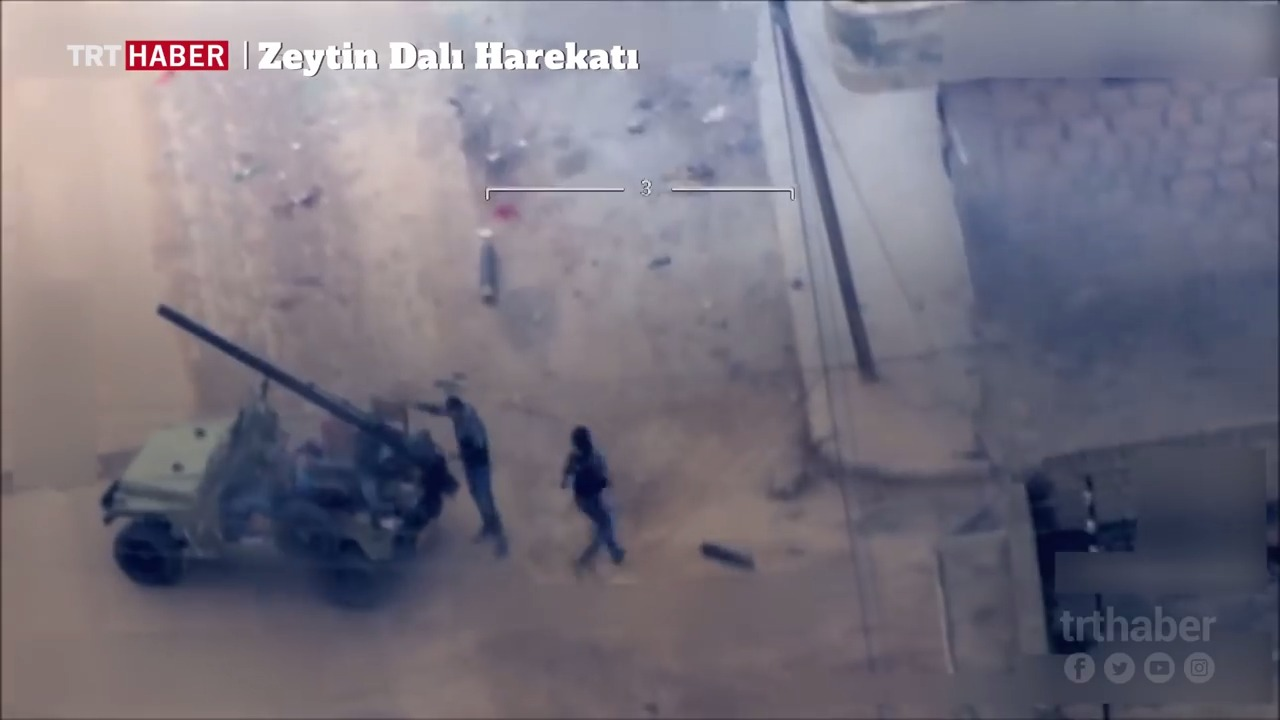arac: (89, 282, 456, 600)
insan: (412, 381, 526, 566), (559, 421, 636, 573)
